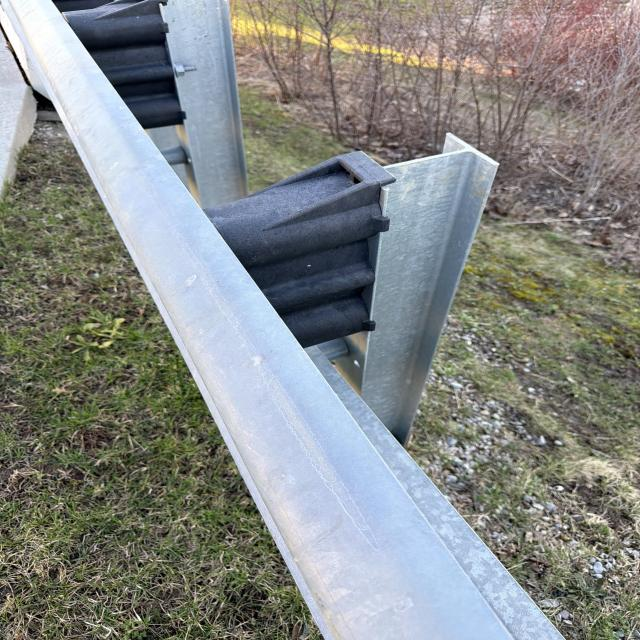Guard rail: (0, 8, 483, 354)
